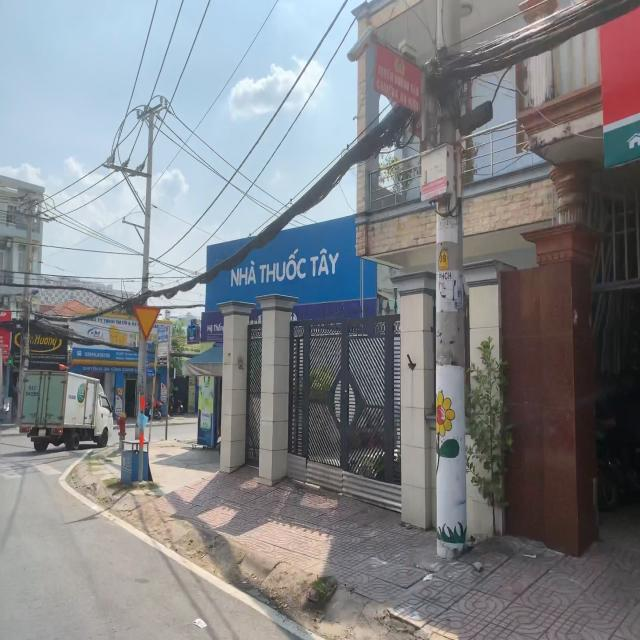Giao voi duong uu tien: (132, 300, 164, 341)
